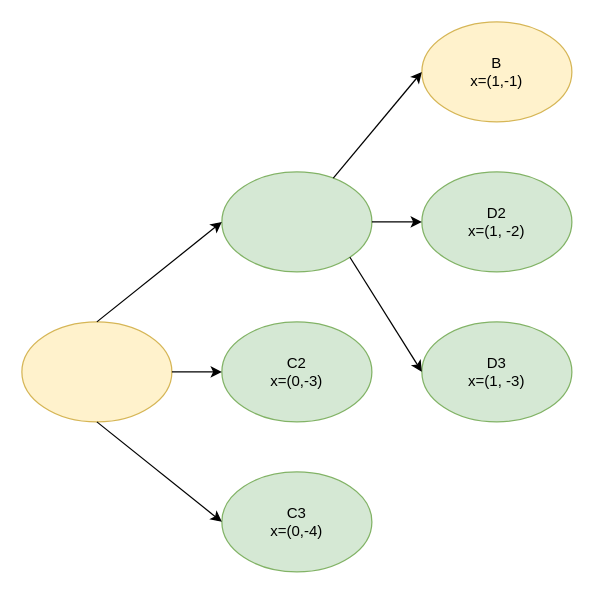
Some shapes in this 594 by 594 pixel diagram are drawn without their labels. Here are the shapes that lost their labels. From the top down, the centre of each, then its label:
At [296,221]: "C2 x=(0,-2)".
At [96,371]: "A x=(-1,3)".
